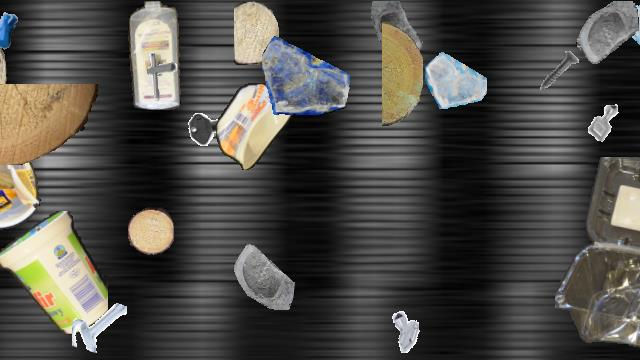glass: (262, 29, 350, 117), (221, 235, 295, 309), (367, 1, 431, 65), (425, 47, 487, 109), (576, 1, 638, 63), (623, 1, 640, 73)
metal: (72, 298, 126, 352), (132, 49, 186, 103), (533, 45, 587, 99), (578, 97, 630, 149), (386, 308, 430, 352), (186, 107, 228, 149), (0, 1, 31, 55)
plastic: (555, 157, 640, 359), (0, 211, 108, 335), (216, 83, 294, 169), (126, 1, 184, 109), (0, 132, 42, 230)
wood: (0, 84, 99, 164), (382, 22, 422, 126), (234, 1, 278, 65), (128, 207, 174, 255), (0, 26, 6, 130)
